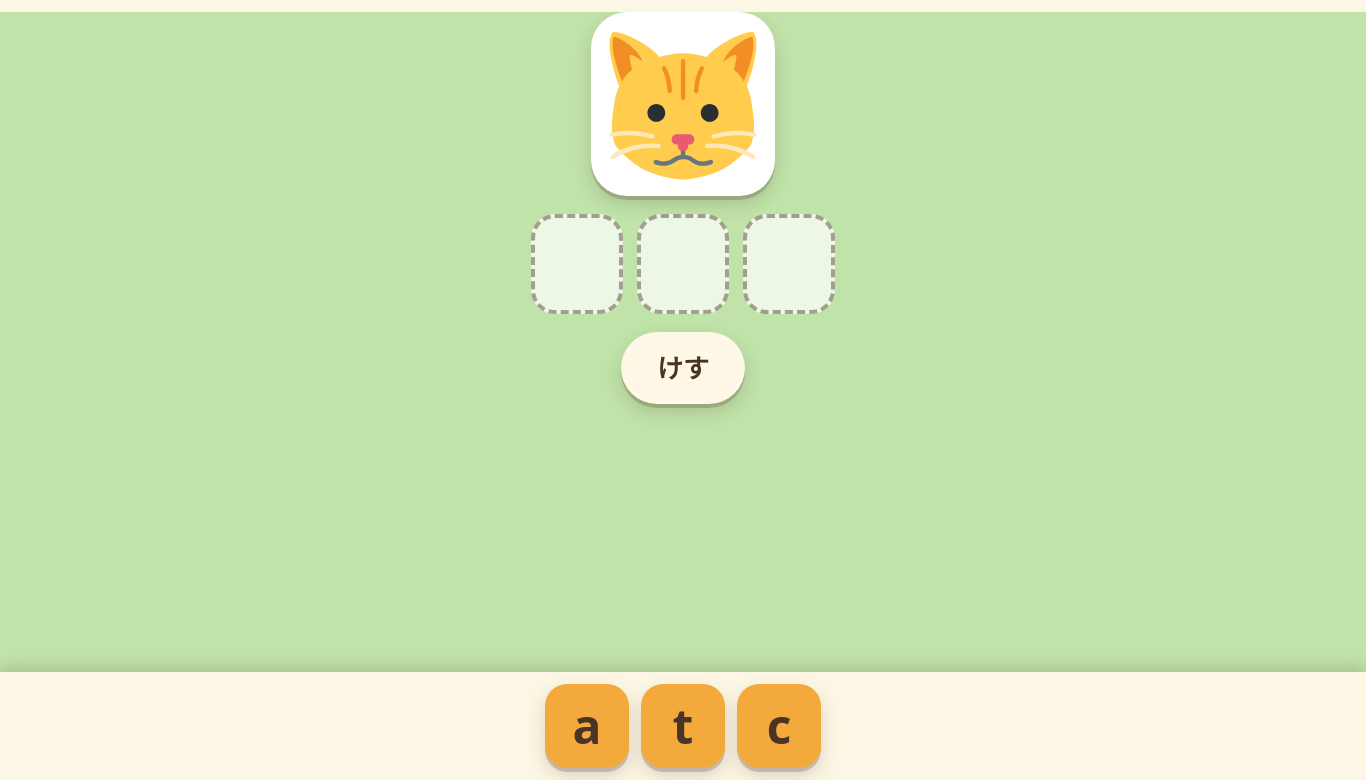
it: LetterTiles › tapping a placed letter returns it; 「けす」 clears all
Click the button with test id "tile" showing "c" at (779, 726), box [737, 684, 821, 768]
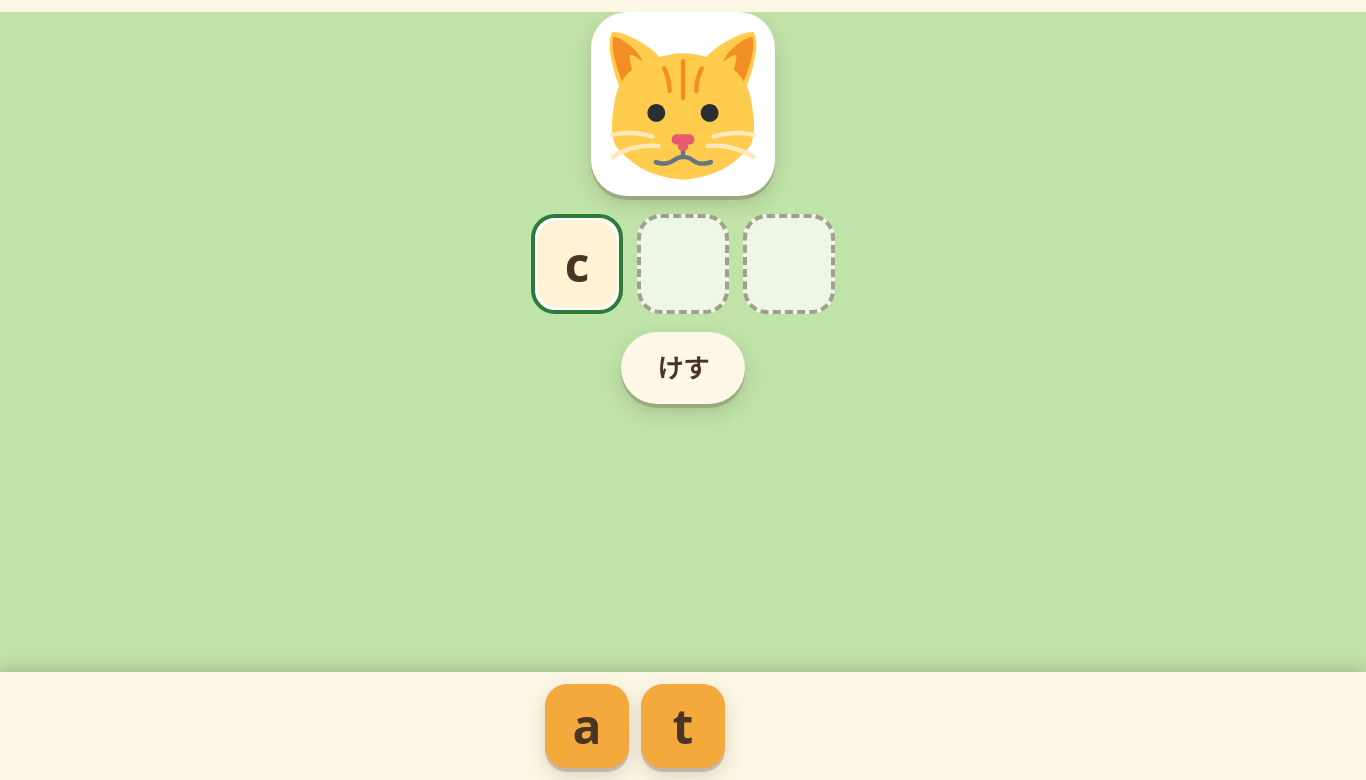
Click the button with test id "tile" showing "a" at (587, 726), box [545, 684, 629, 768]
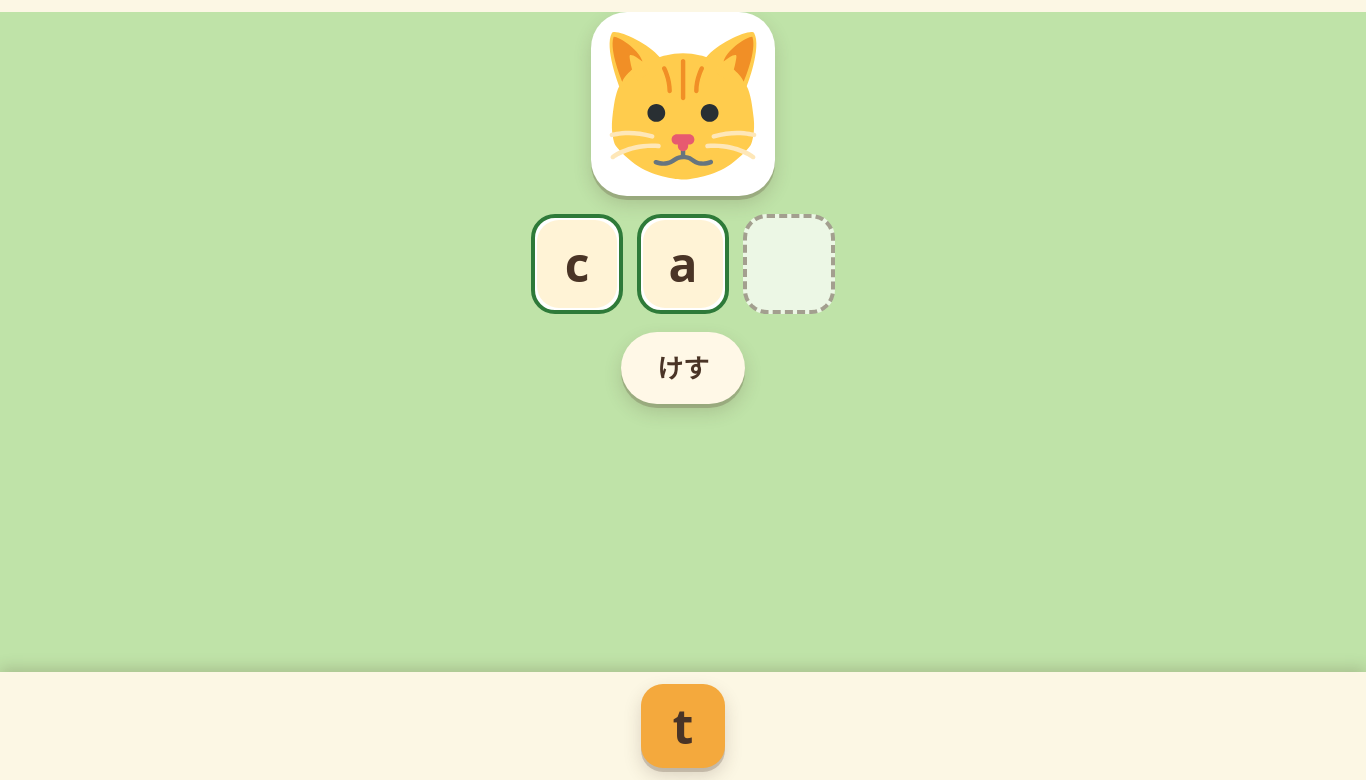
Check: the element with test id "slot" reads "c"
Click the button "c" at (577, 264), box [537, 220, 617, 308]
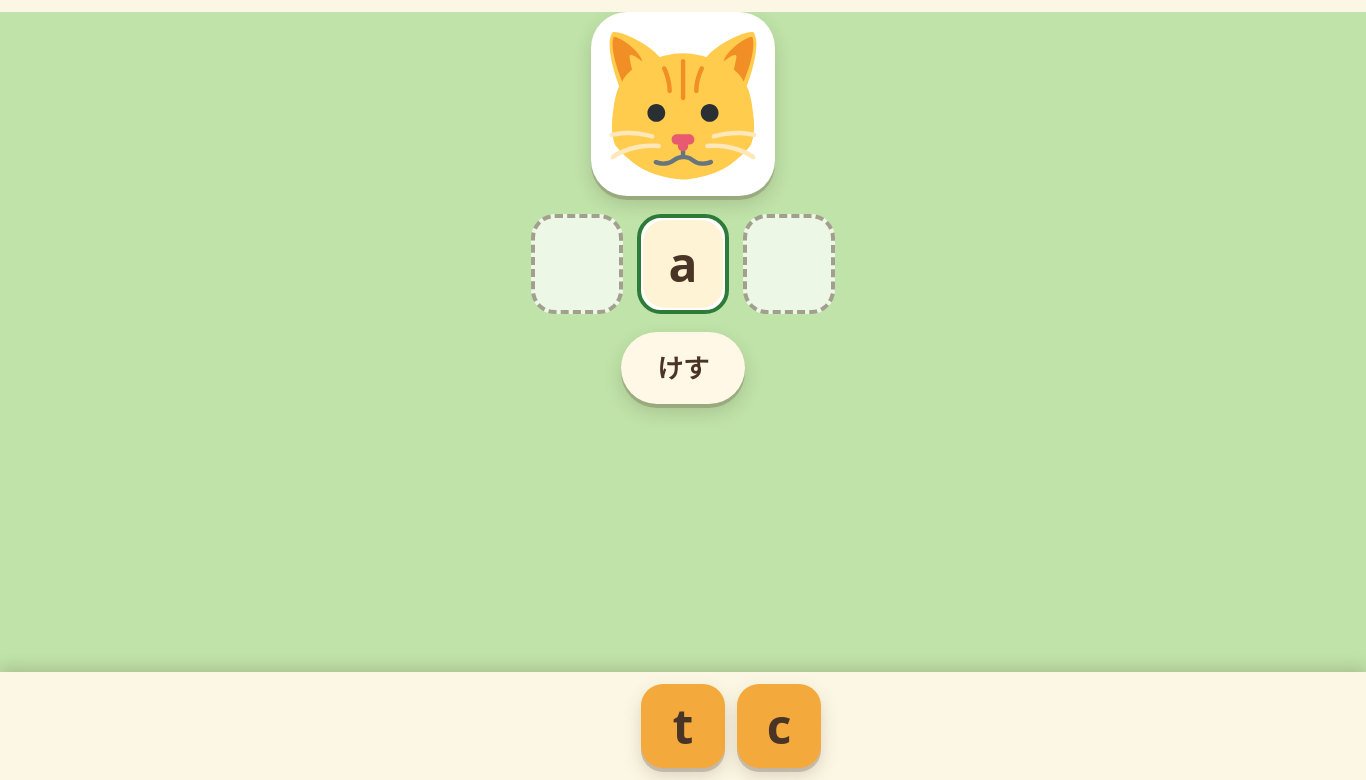
Check: the 1st element with test id "slot" is empty, box [531, 214, 623, 314]
Click the button with test id "tile" showing "t" at (683, 726), box [641, 684, 725, 768]
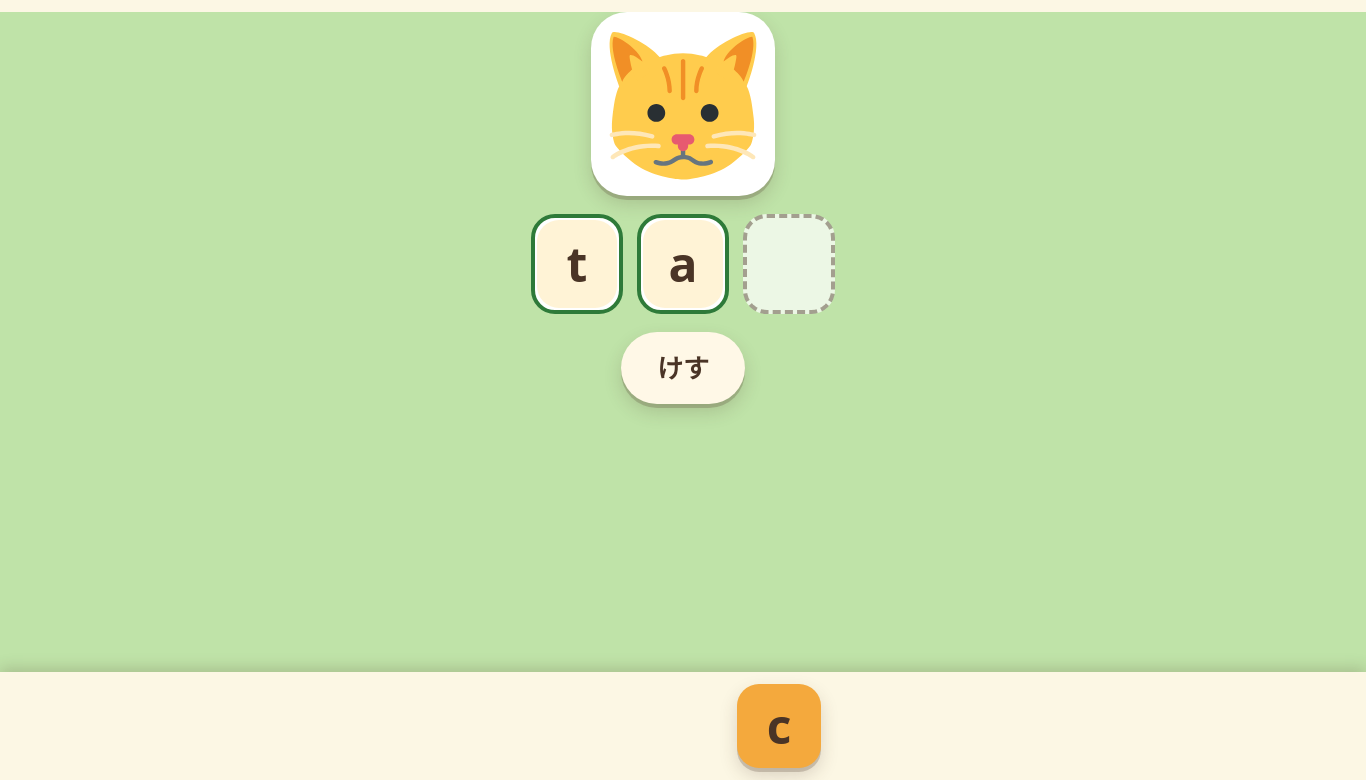
Check: the element with test id "slot" reads "t", box [537, 220, 617, 308]
Click the button "けす" at (683, 368), box [621, 332, 745, 404]
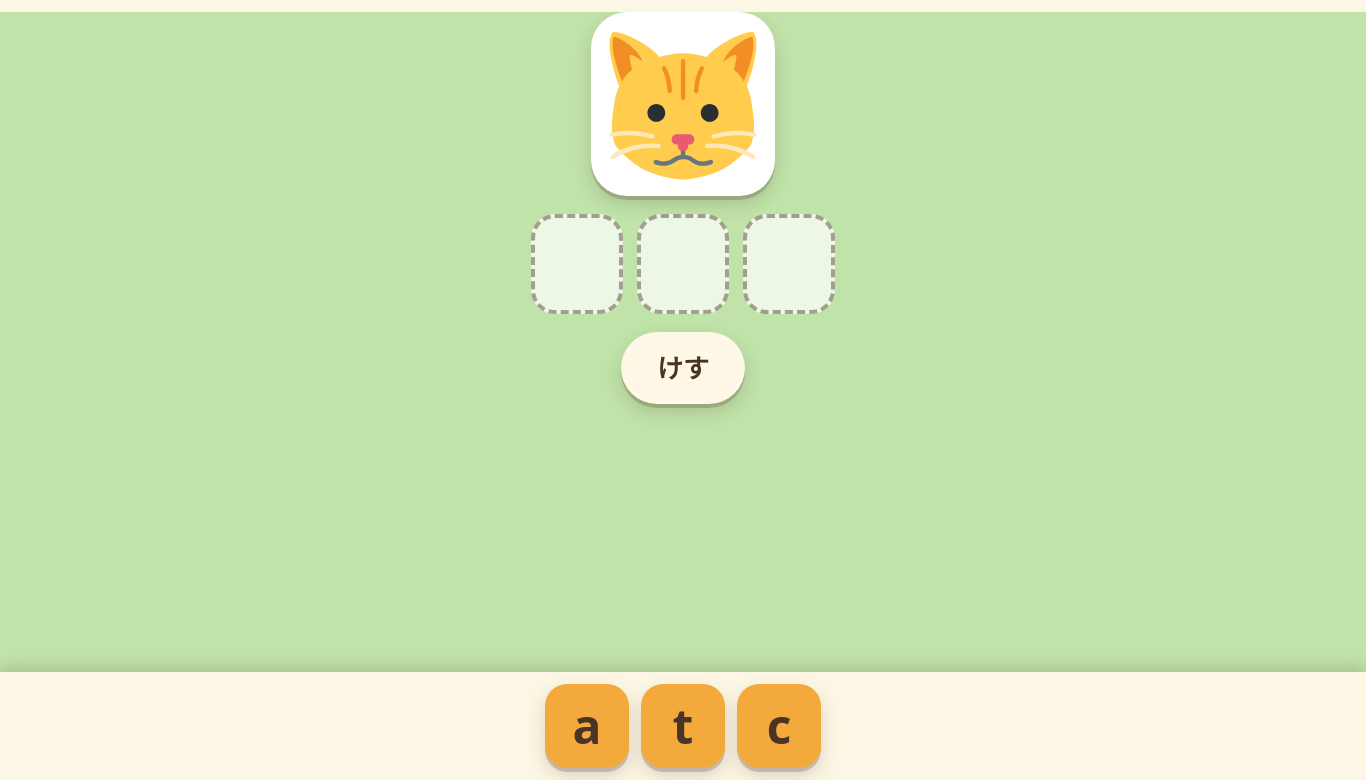
Check: the elements with test id "slot" read "", "", "", in this order, box [531, 214, 623, 314]; [637, 214, 729, 314]; [743, 214, 835, 314]
